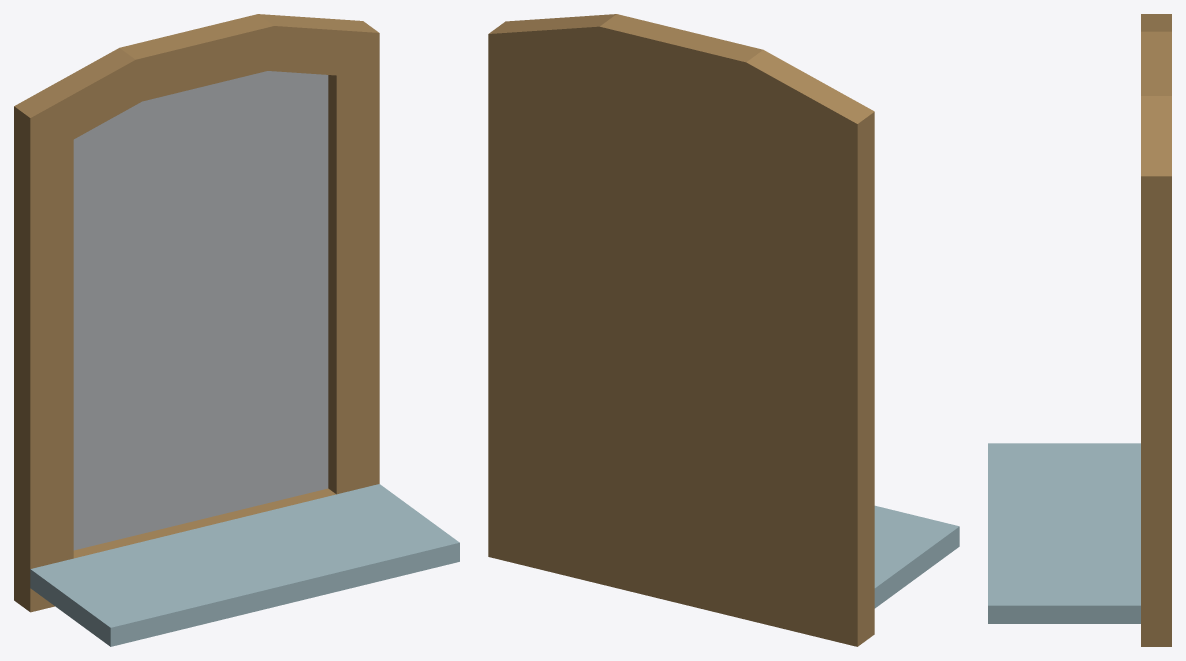
Rendered from mirror.glb.
The picture shows the model from 3 angles, left to right: view 1: azimuth 30°, elevation 25°; view 2: azimuth 150°, elevation 25°; view 3: azimuth 270°, elevation 25°; orthographic projection. The views are drawn at different scales.
Visible parts, largest first — view 1: mirror; view 2: mirror; view 3: mirror.
Boxes of the visible parts, box(x1,y1,x2,y2) form: mirror: box(14, 14, 459, 646); mirror: box(488, 14, 959, 646); mirror: box(988, 14, 1171, 646).
Size of the model in its own units: 0.6 by 0.8654 by 0.2875.
